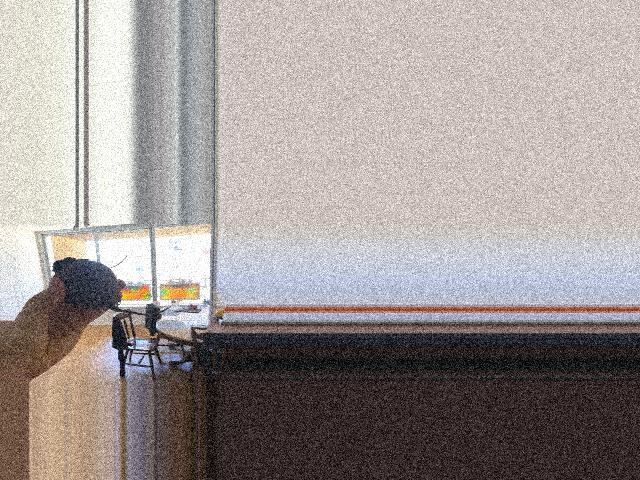beet: (53, 256, 171, 315)
